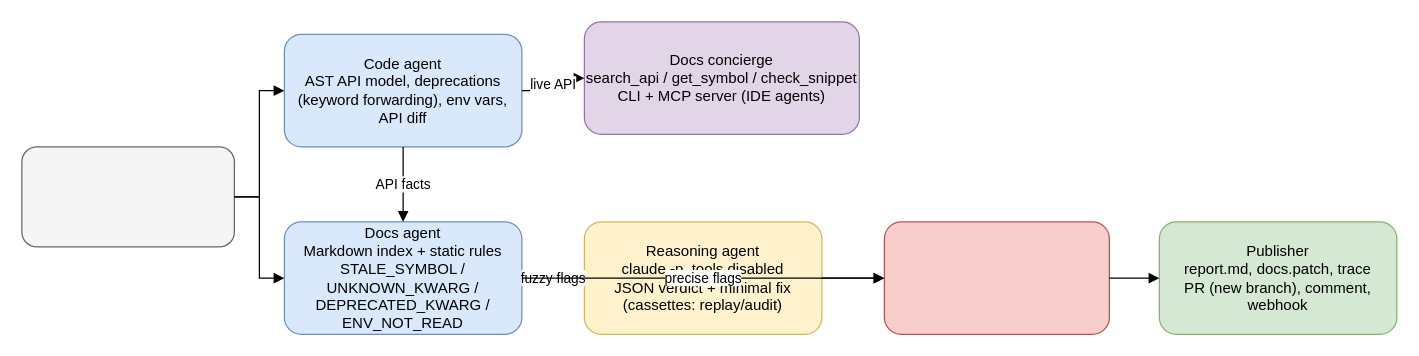
Image size: 1419x356. Some labels were removed from this diagram. The shapes that lost their labels are listed below. From the top down, each one's centre as x and y in pixels, then its label:
point 127,196: Triggers GitHub Action / webhook (HMAC) POST /scan / CLI
point 996,277: Verifier guardrails G1–G9 re-runs static checks on patch
